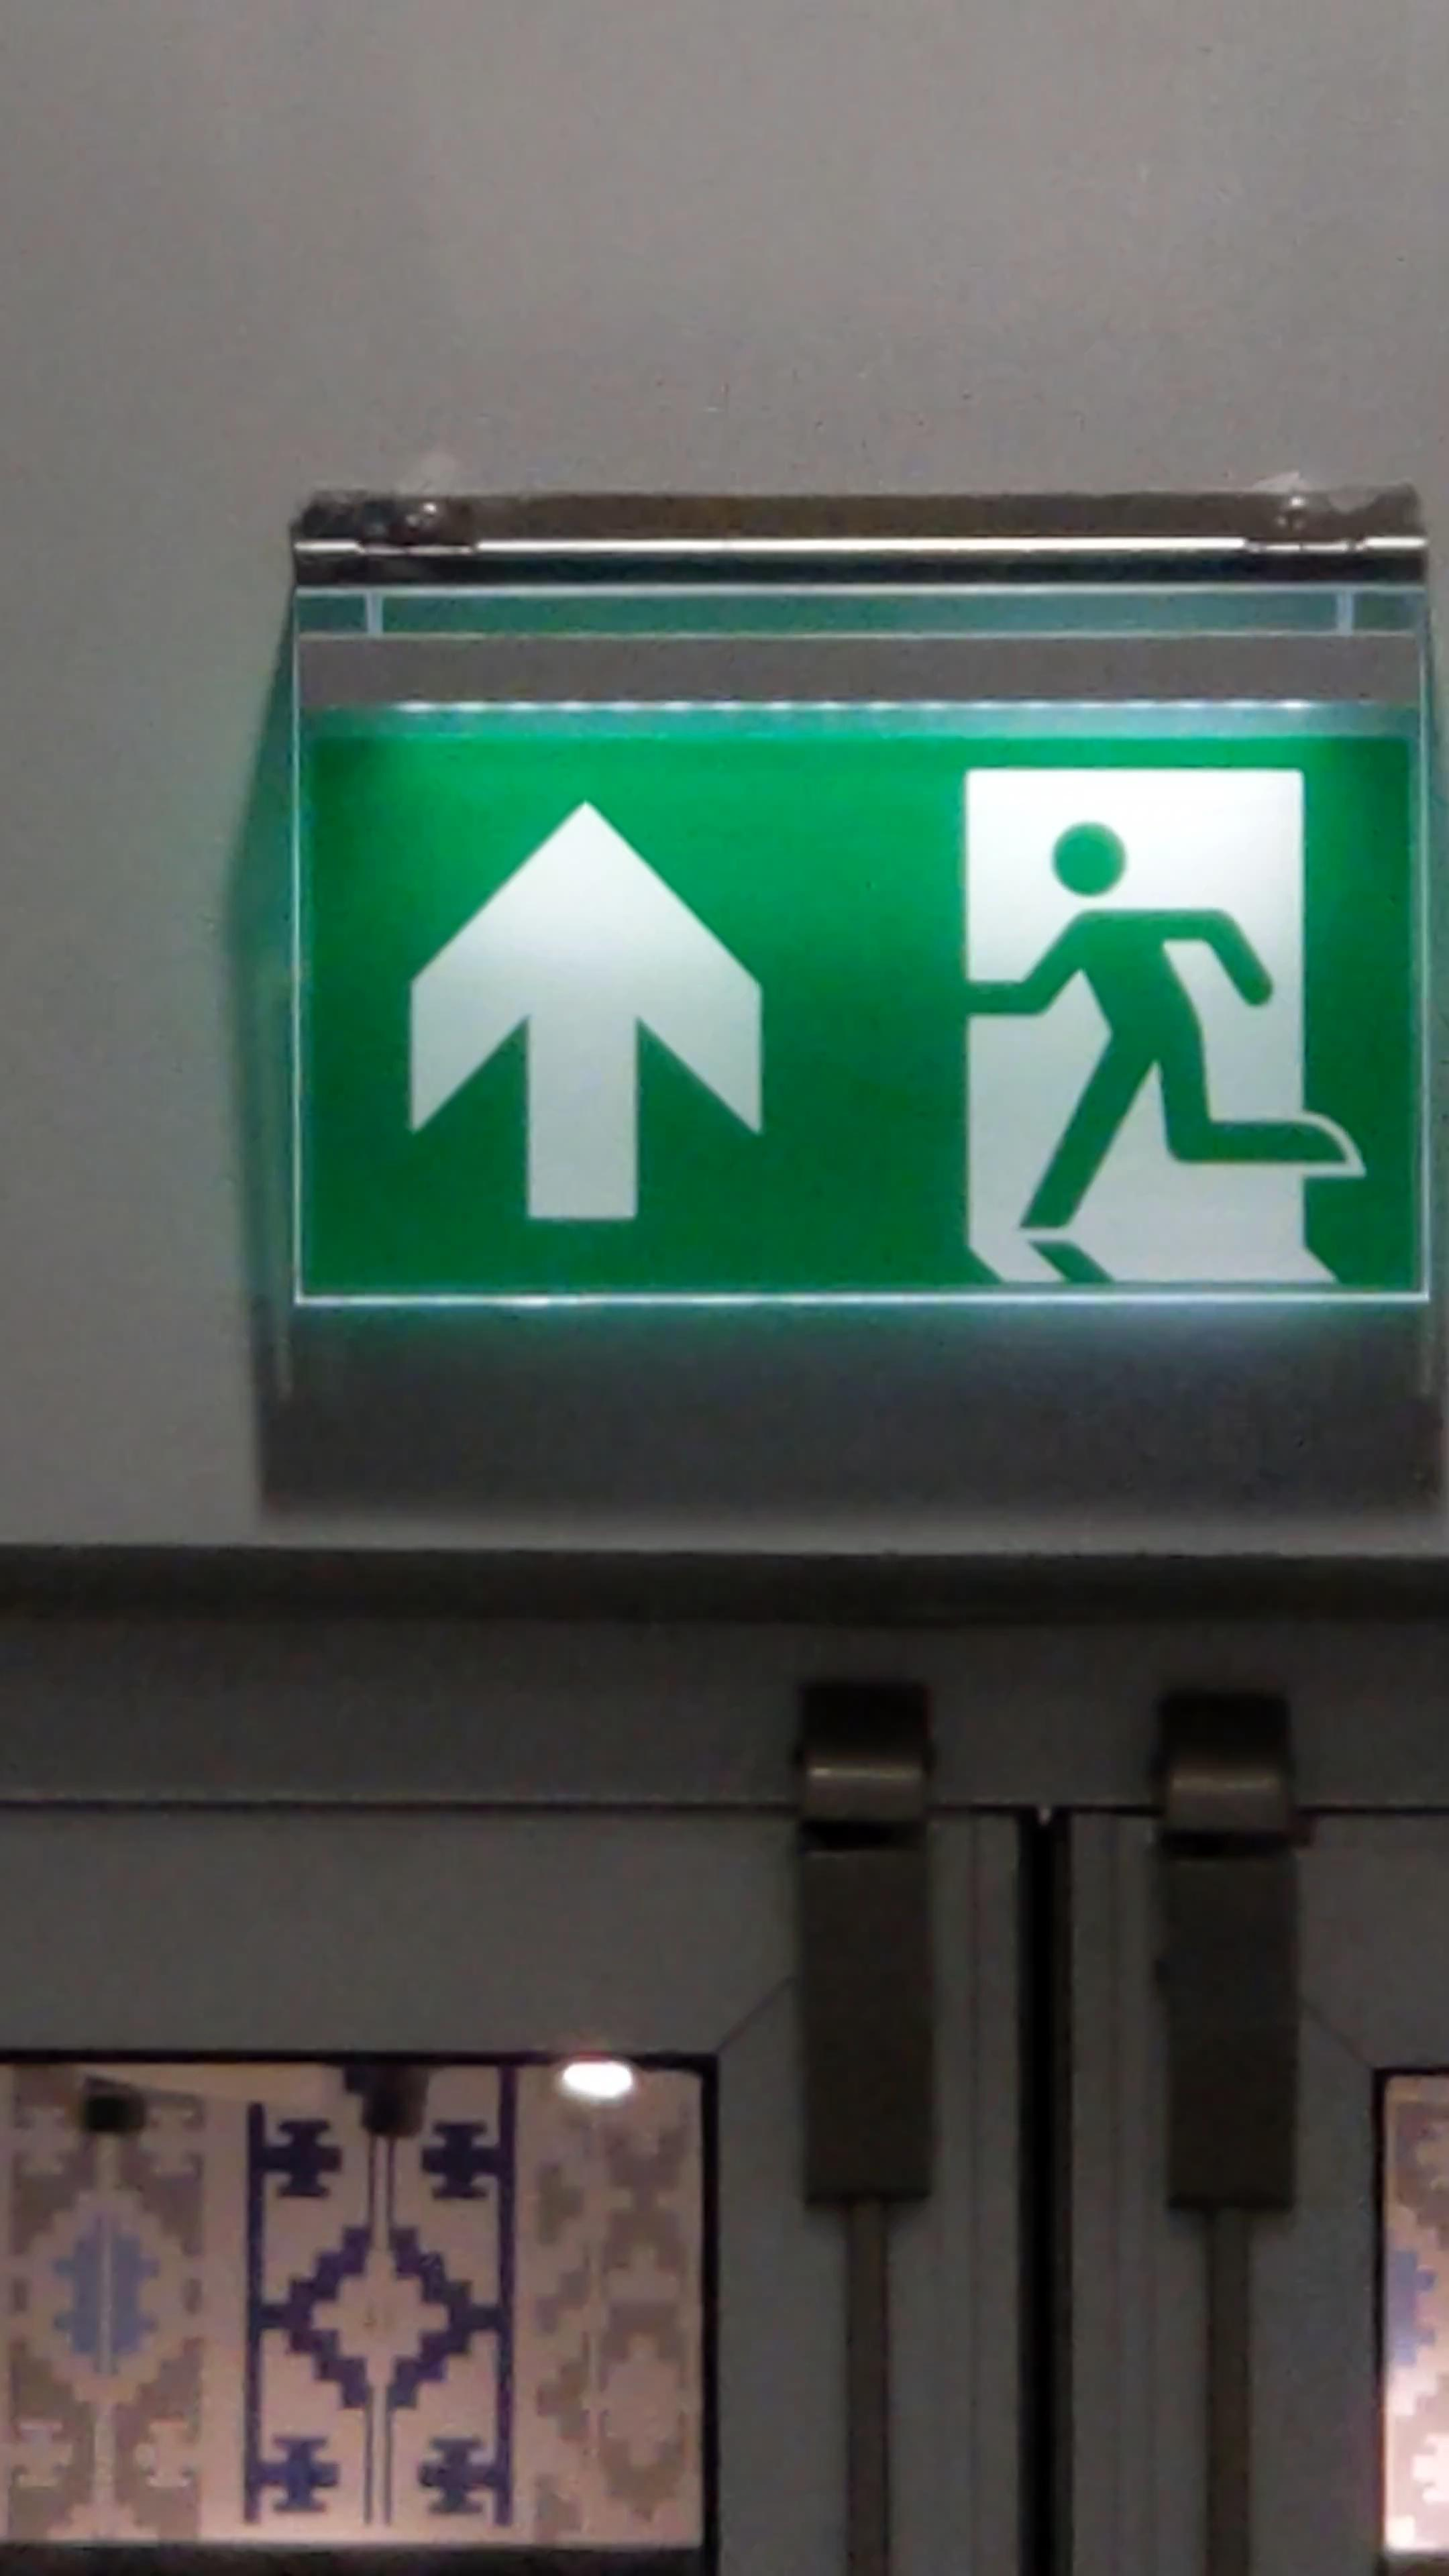emergency exit: (934, 754, 1376, 1307)
up arrow: (384, 782, 780, 1238)
